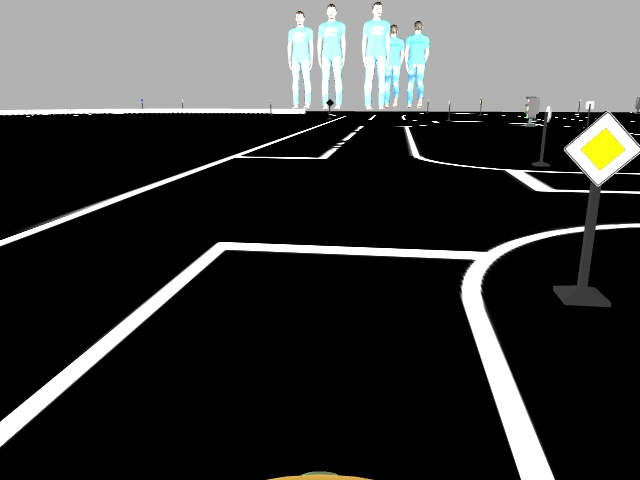Priority: (563, 109, 639, 185)
